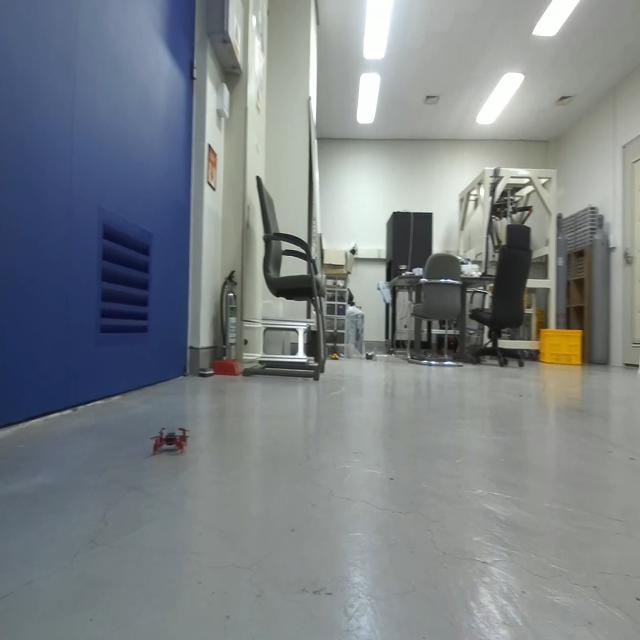crazyflie: (150, 419, 190, 460)
